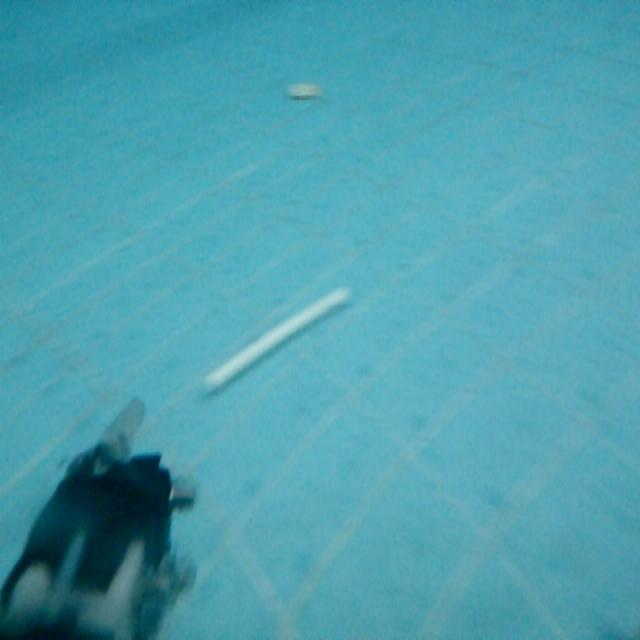Cube: (207, 286, 350, 393)
